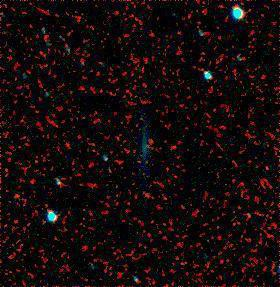star: (135, 181, 165, 211)
